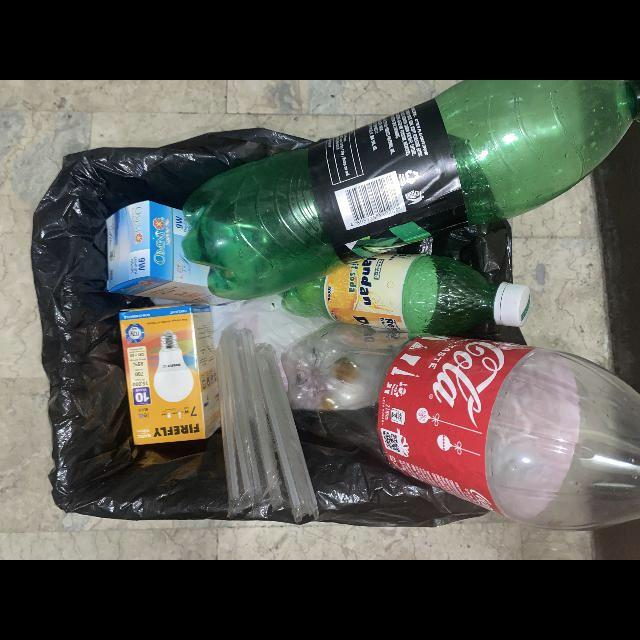cardboard: (119, 305, 221, 446), (106, 200, 240, 306)
plastic_bottle: (181, 80, 640, 301), (280, 322, 640, 531), (282, 255, 530, 337)
